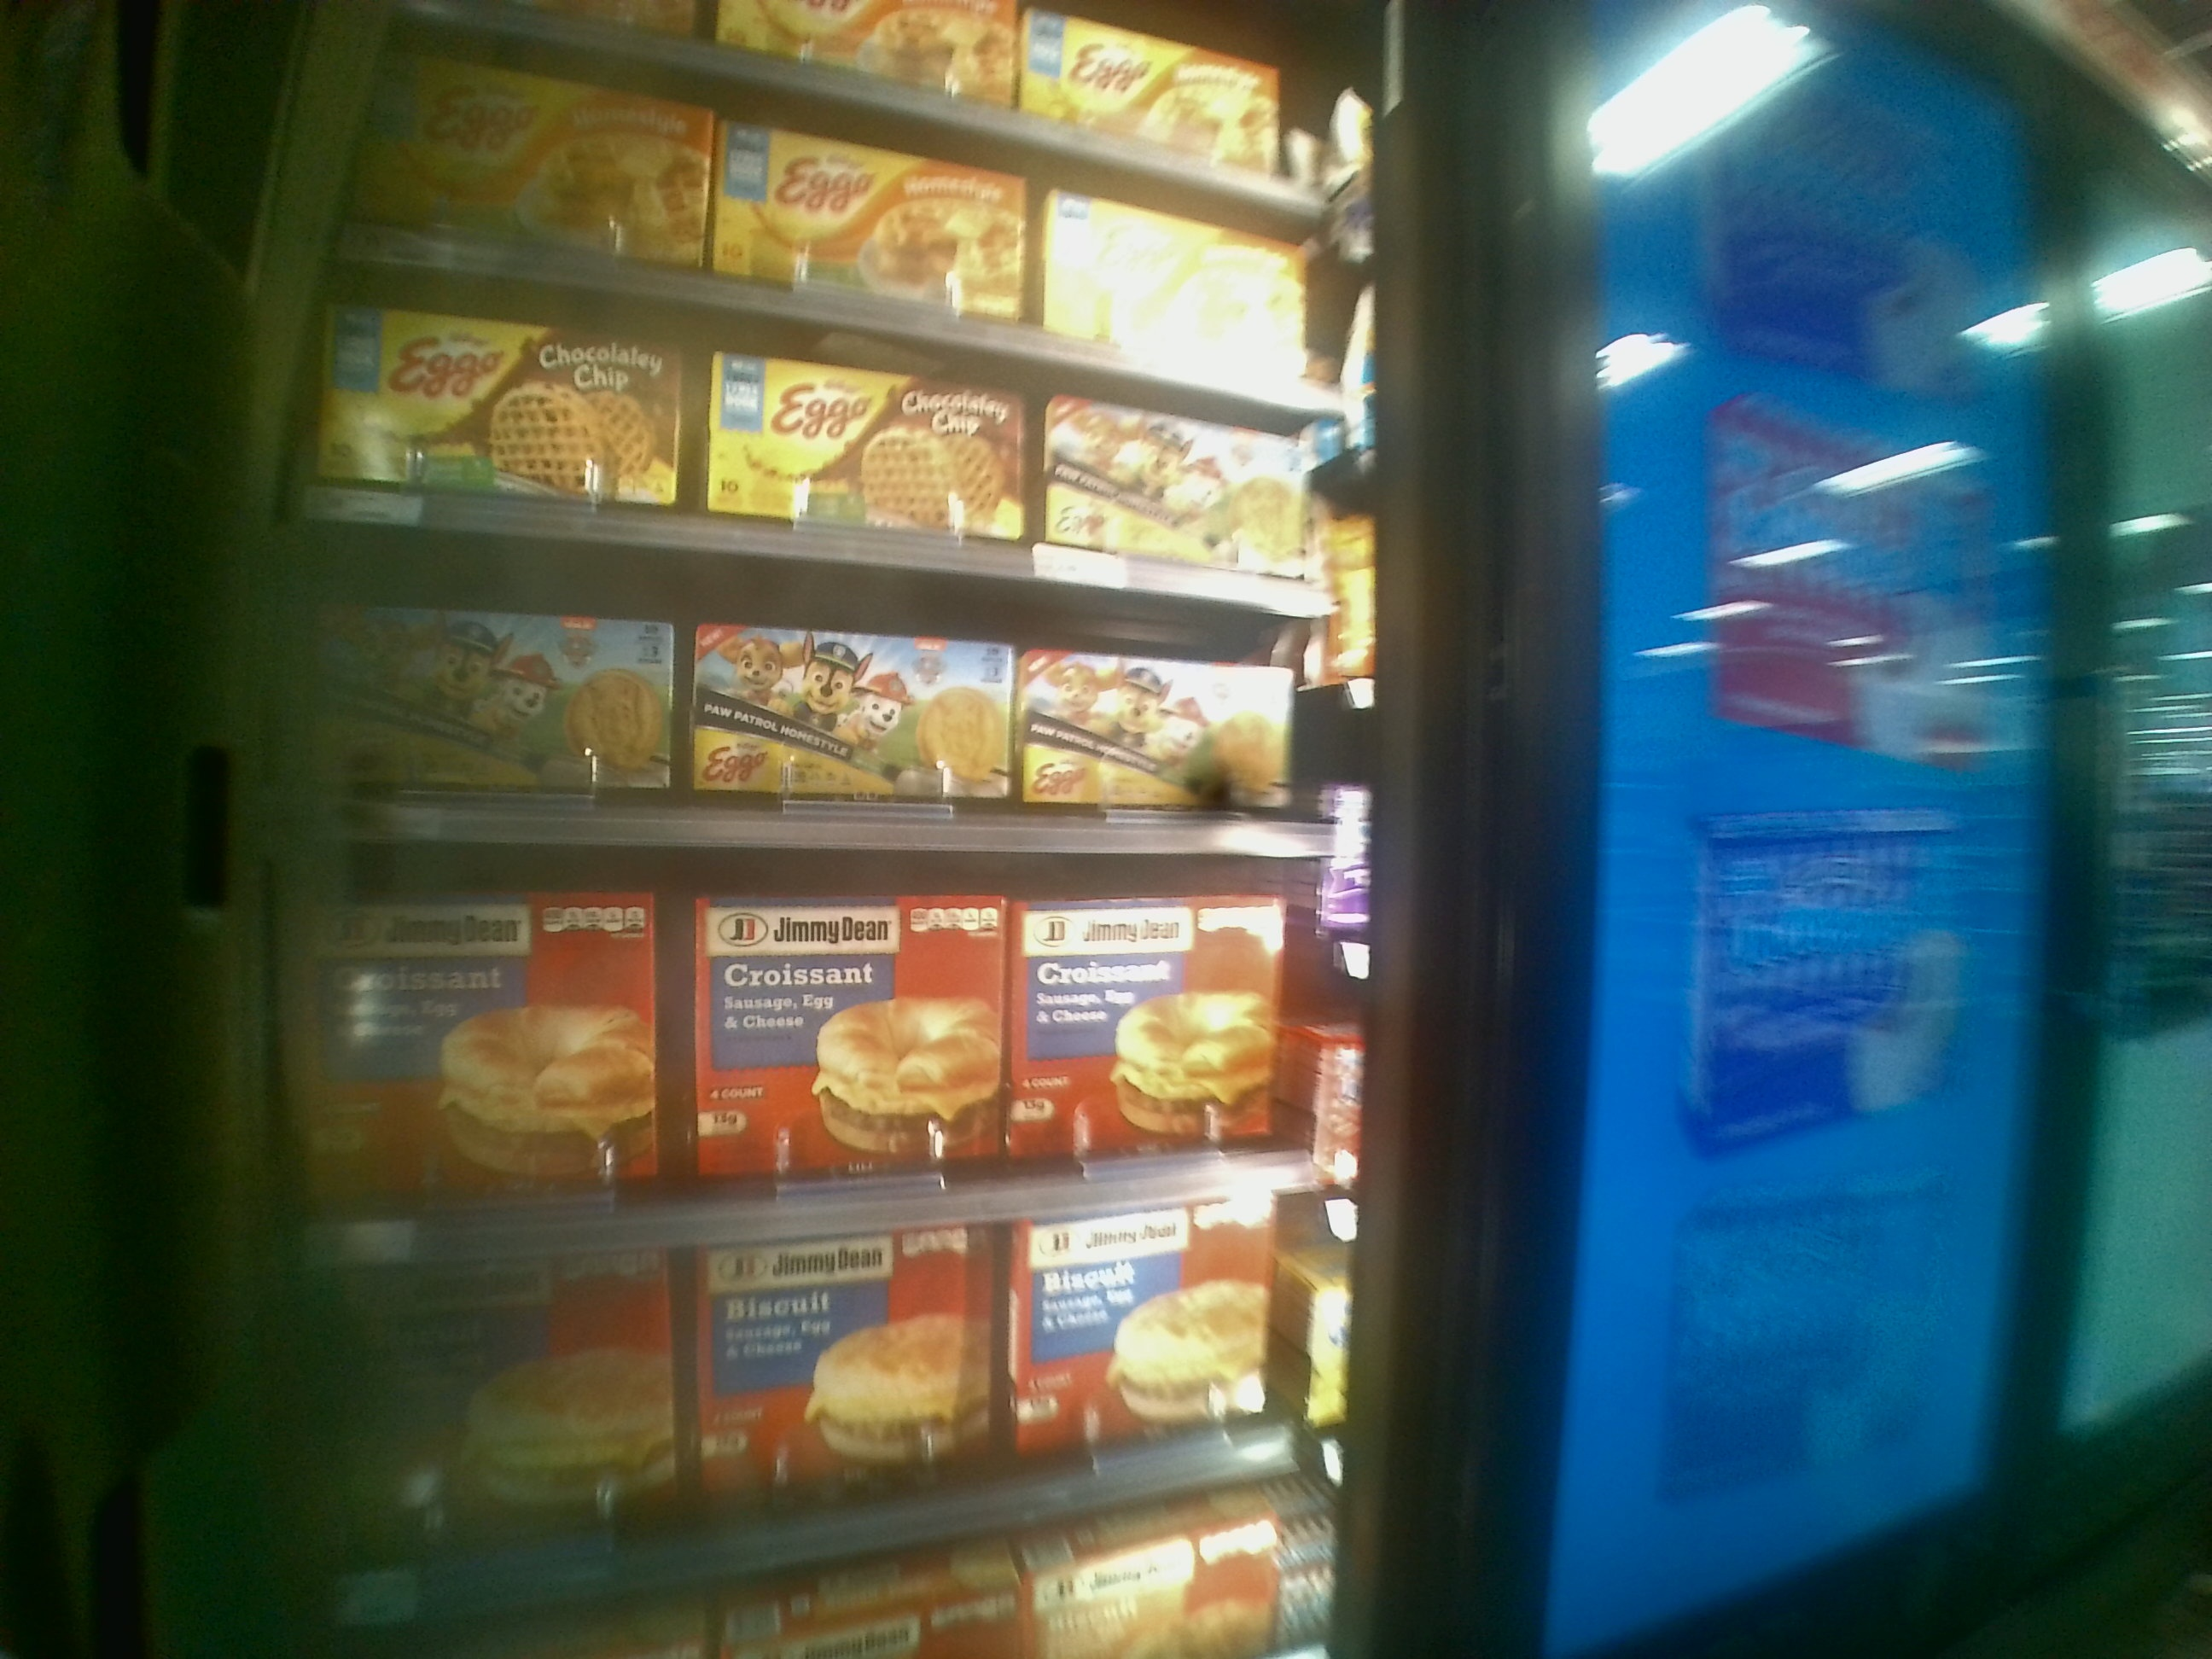shelf: (308, 842, 1366, 1239), (303, 249, 1339, 598), (301, 516, 1355, 857)
